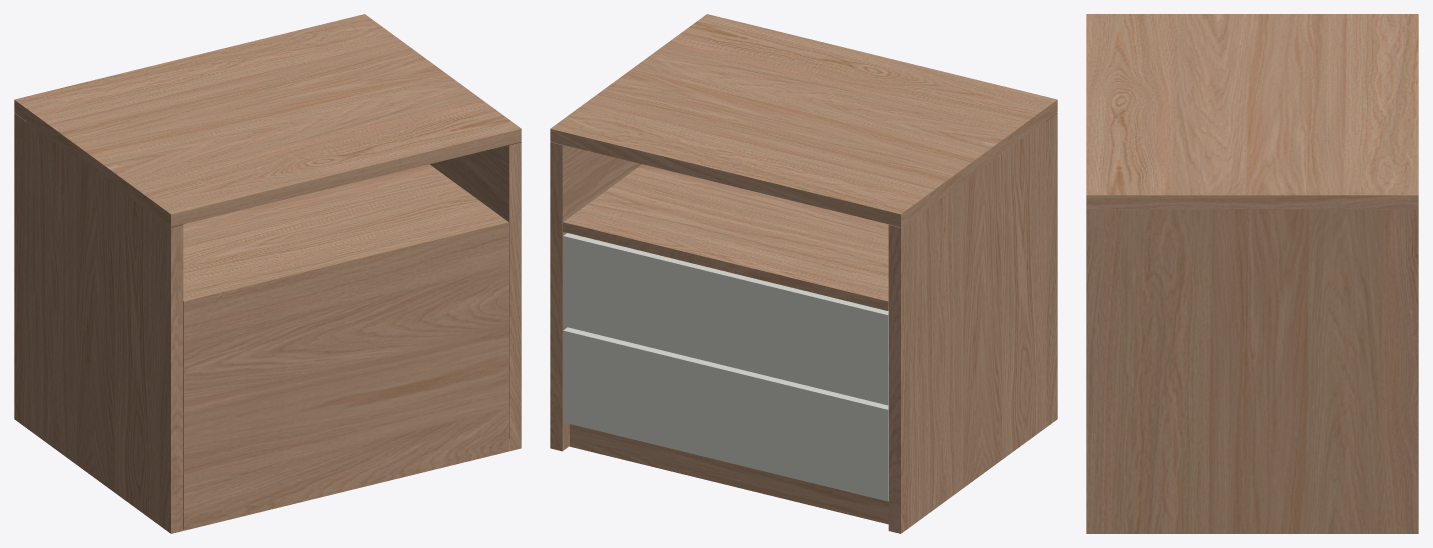
Rendered from Bed Drawer.fbx.
3 views of the same model, side by side, from view 1: azimuth 30°, elevation 25°; view 2: azimuth 150°, elevation 25°; view 3: azimuth 270°, elevation 25° (orthographic). The views are drawn at different scales.
Parts seen in each view (by area): view 1: Bed Drawer; view 2: Bed Drawer; view 3: Bed Drawer.
Boxes of the visible parts, x1=… form: Bed Drawer: x1=14, y1=14, x2=521, y2=533; Bed Drawer: x1=550, y1=14, x2=1057, y2=533; Bed Drawer: x1=1086, y1=14, x2=1418, y2=533.
Size of the model in its own units: 200 by 155 by 174.
2 materials, 1 textured.
